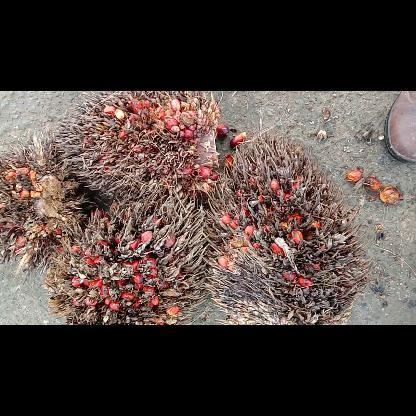Terlalu masak: (202, 132, 374, 324), (52, 91, 224, 221), (41, 194, 209, 324), (0, 128, 95, 287)
